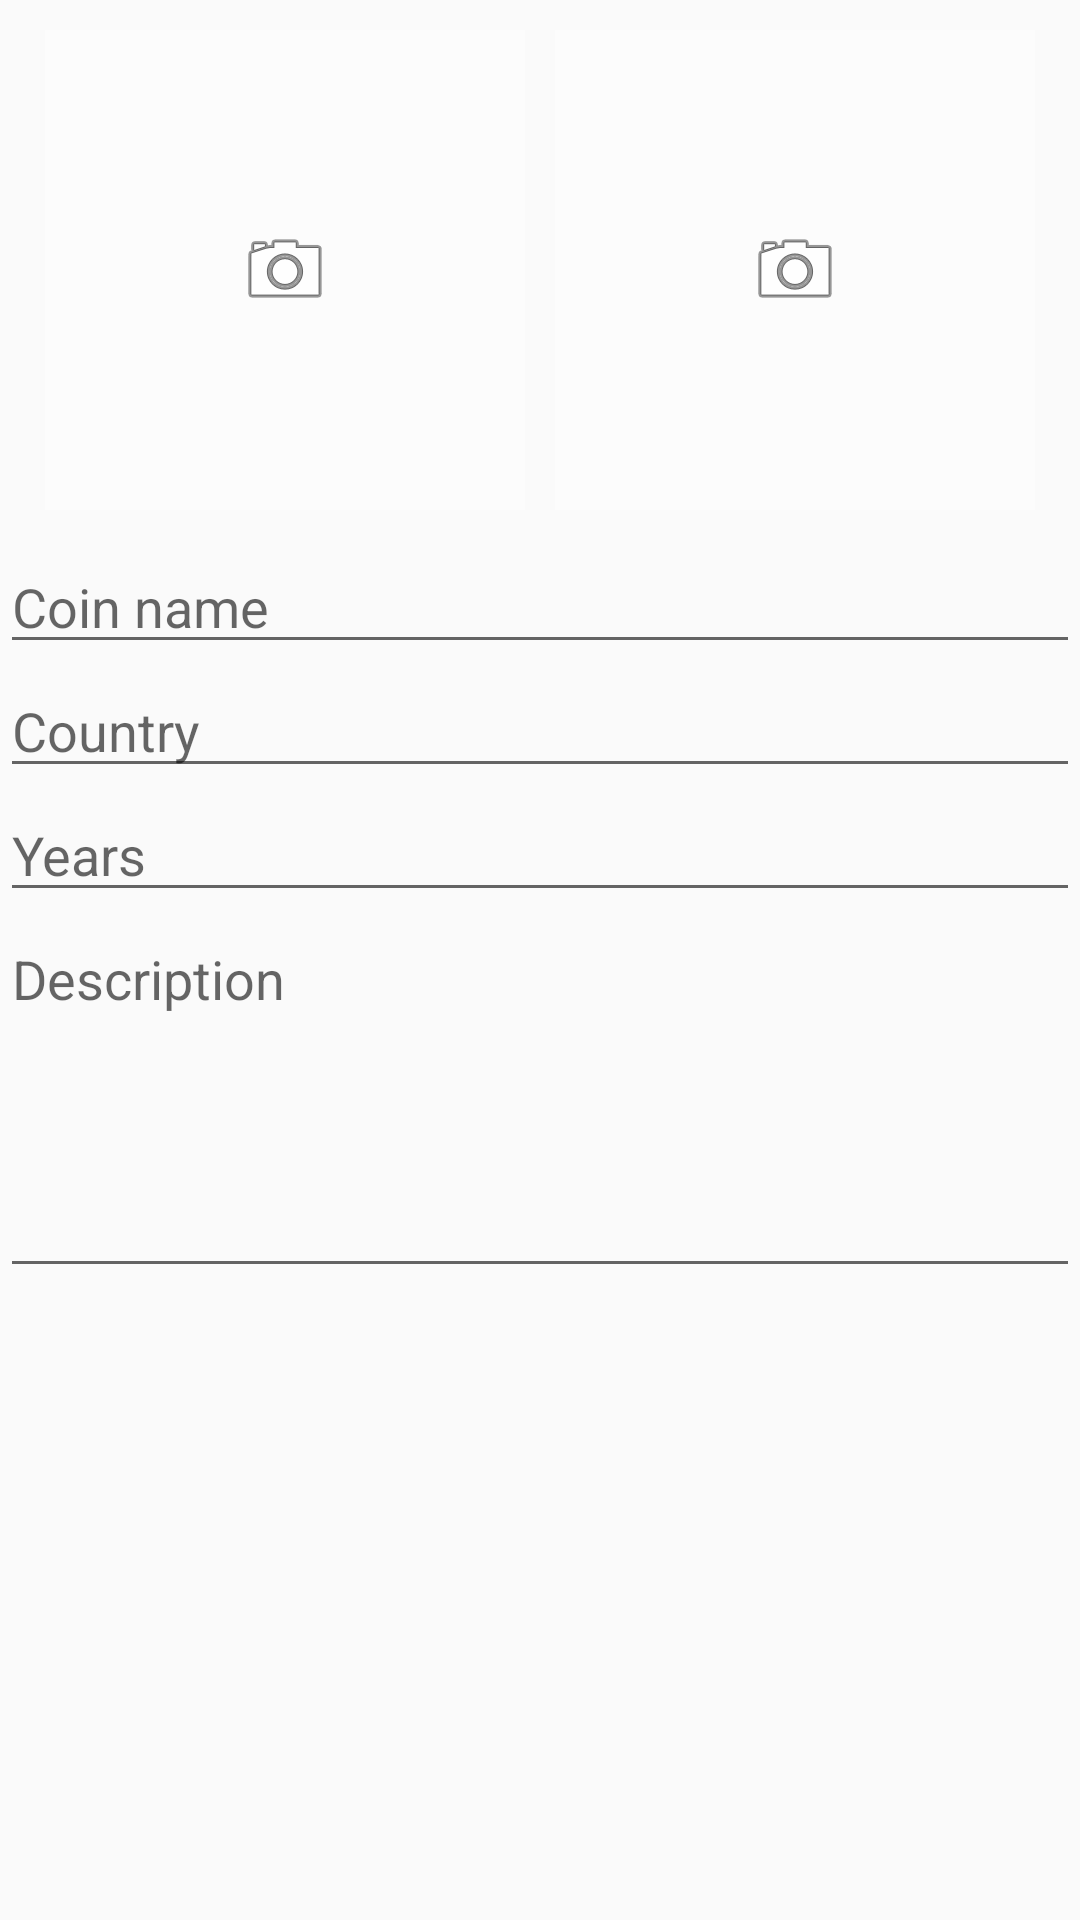

Named icons in this screenshot (1080 × 1920) and their centers, (x,y):
camera: (285,268), (795,268)
